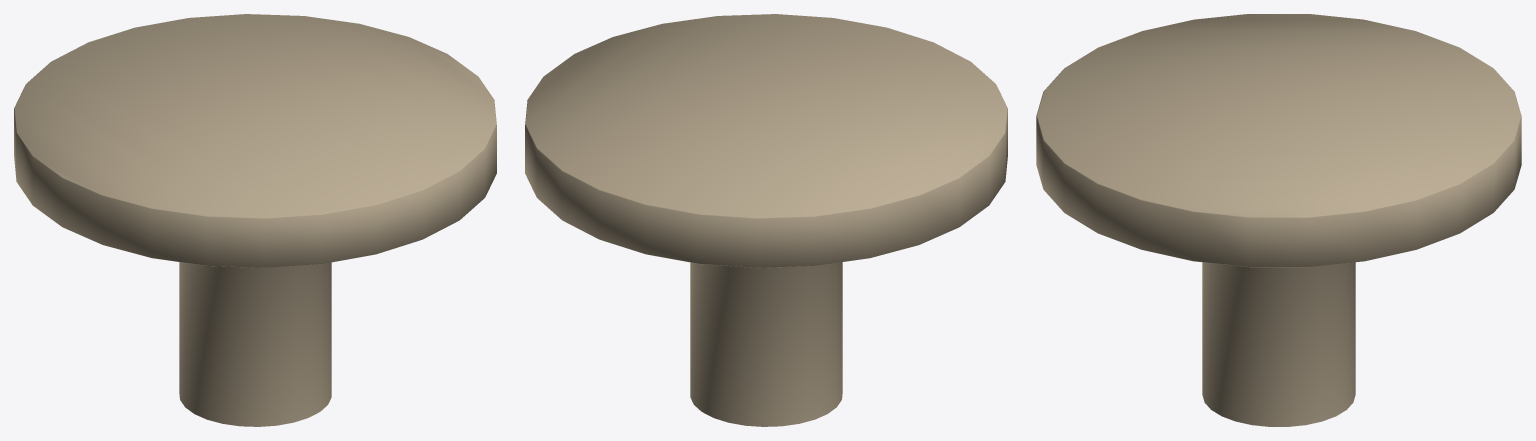
The model's file is Iglesia-Mesa.fbx.
The picture shows the model from 3 angles, left to right: view 1: azimuth 30°, elevation 25°; view 2: azimuth 150°, elevation 25°; view 3: azimuth 270°, elevation 25°; orthographic projection.
Visible parts, largest first — view 1: Mesa; view 2: Mesa; view 3: Mesa.
Boxes of the visible parts, x1,y1,x2,y2 form: Mesa: (14,14,496,426); Mesa: (525,14,1007,426); Mesa: (1036,14,1521,426).
Bounding box in the file's own units: 1.59 × 1.02 × 1.61.
